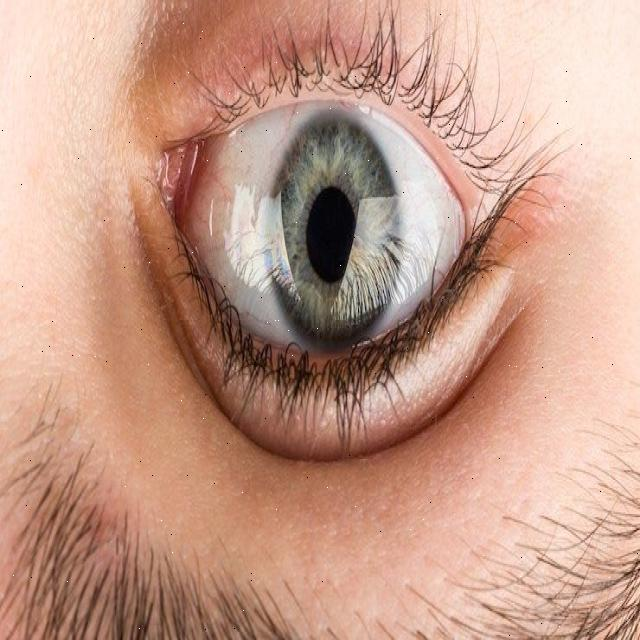Normal: (268, 112, 404, 363)
